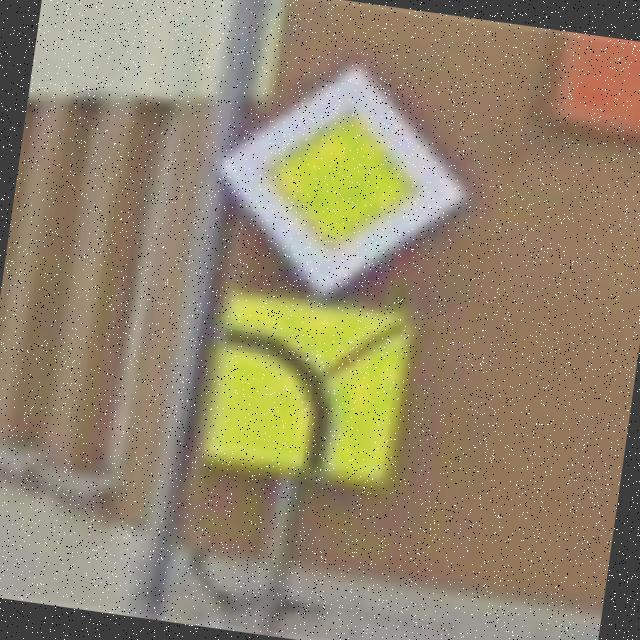Droga z pierwszenstwem: (194, 44, 490, 322)
